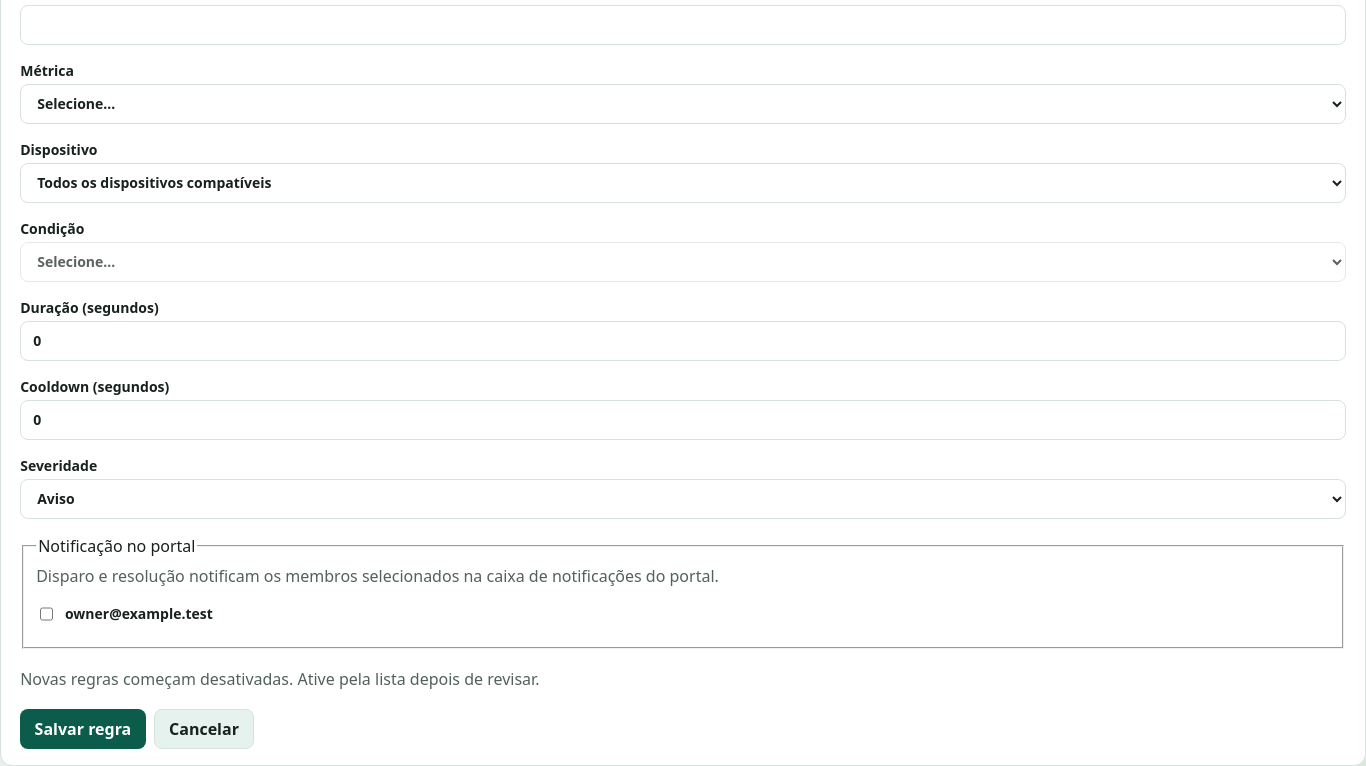
Test case: AlertRuleFormPage › não envia a requisição quando a validação do cliente falha
(page scrolled)
Expected: the field labelled "Nome" is shown, [20,5,1346,45]
Step 1. Click the button "Salvar regra" → (83,729), box [20,709,146,749]
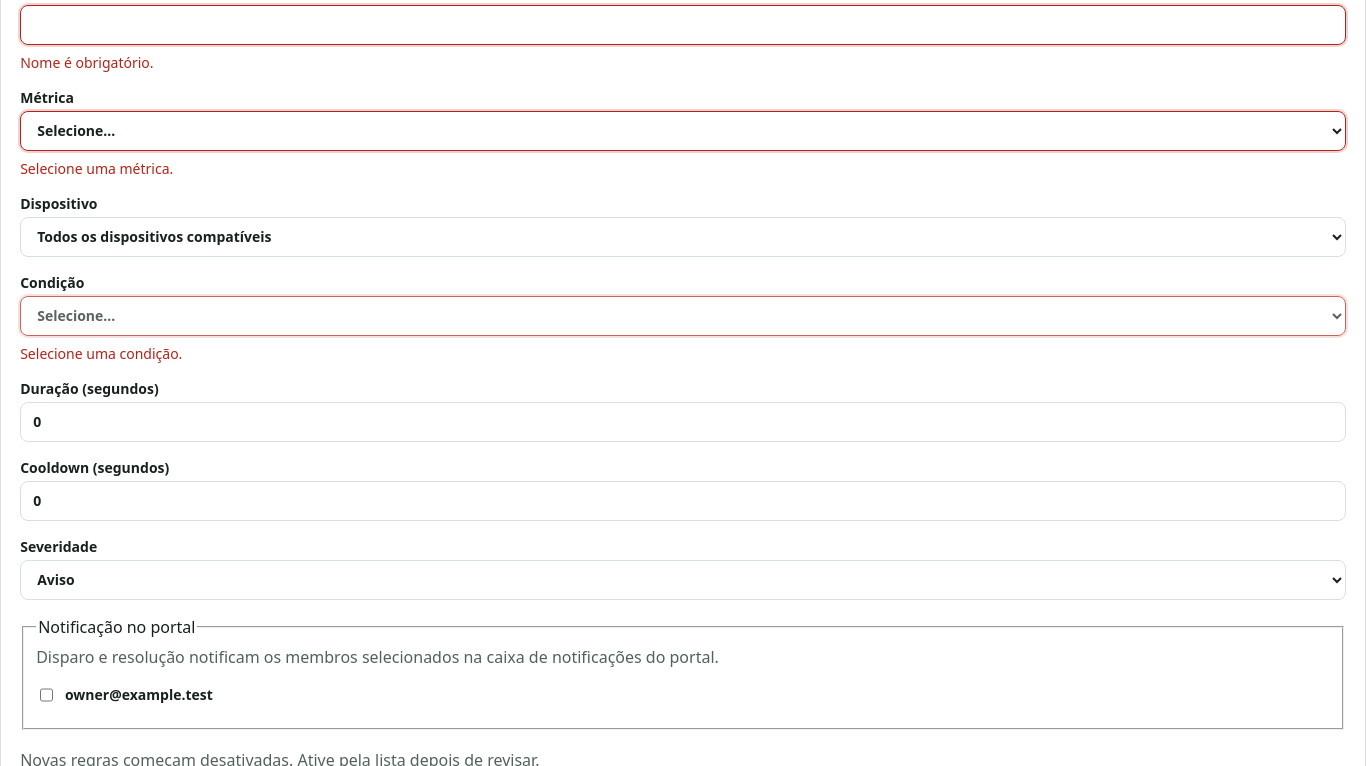
Expected: the text "Nome é obrigatório." is shown, [20,53,154,72]
Expected: the text "Selecione uma métrica." is shown, [20,159,173,178]
